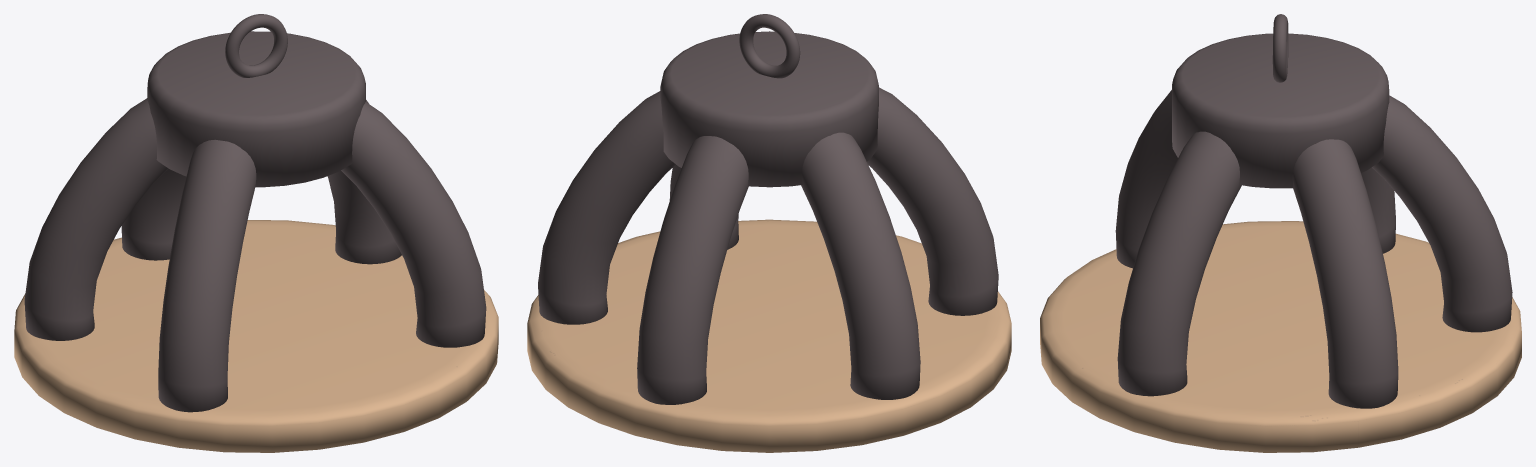
Rendered from cage.fbx.
The picture shows the model from 3 angles, left to right: view 1: azimuth 30°, elevation 25°; view 2: azimuth 150°, elevation 25°; view 3: azimuth 270°, elevation 25°; orthographic projection.
Visible parts, largest first — view 1: Torus; view 2: Torus; view 3: Torus.
Part boxes in pixels (x1,y1,x2,y2): Torus: (14,14,498,452); Torus: (527,14,1011,452); Torus: (1040,14,1521,452).
Bounding box in the file's own units: 1.97 × 1.51 × 1.97.
Materials: 1 (1 with a texture image).
